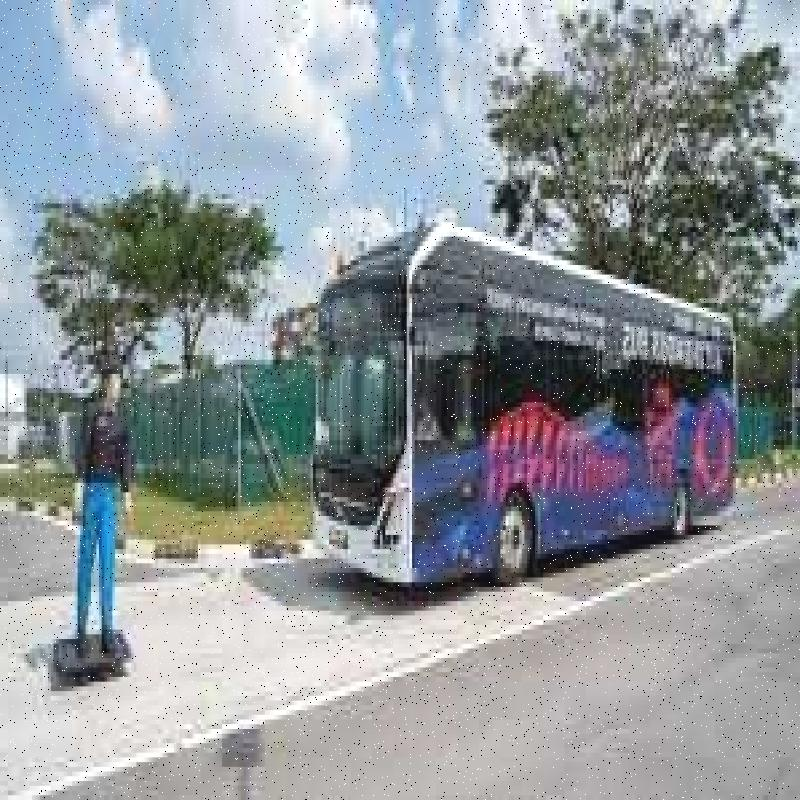bus: (276, 183, 748, 637)
